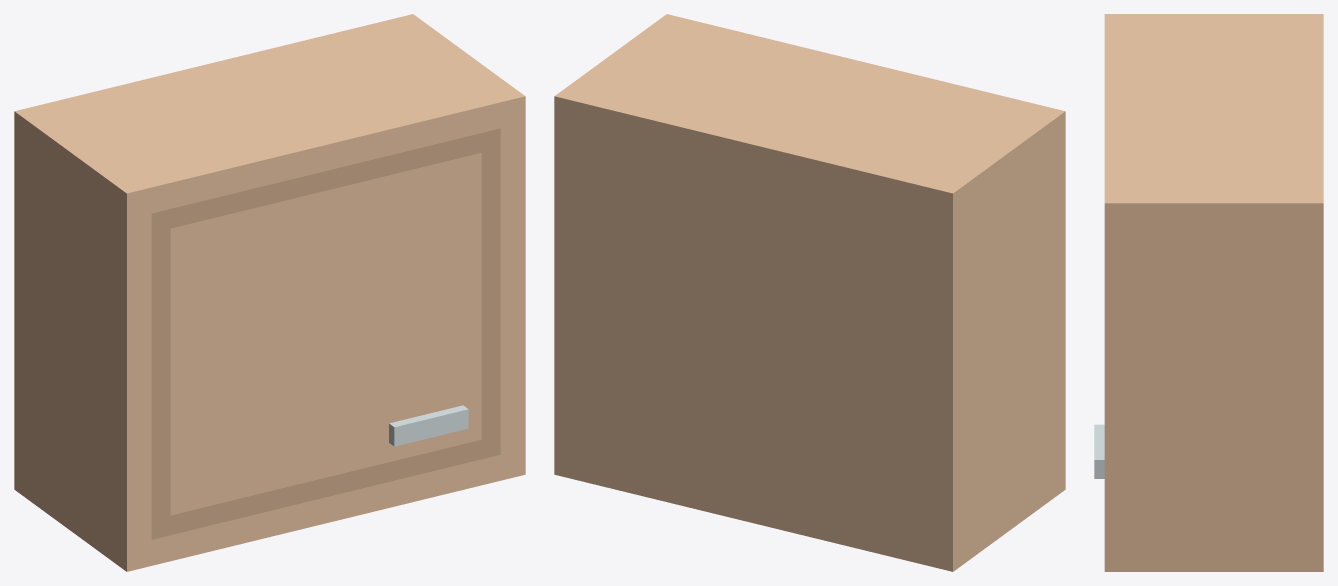
The model's file is kitchenCabinetUpper.gltf.
3 renders of one model, left to right at view 1: azimuth 30°, elevation 25°; view 2: azimuth 150°, elevation 25°; view 3: azimuth 270°, elevation 25°, orthographic. The views are drawn at different scales.
Visible parts, largest first — view 1: kitchenCabinetUpper(Clone), door; view 2: kitchenCabinetUpper(Clone); view 3: kitchenCabinetUpper(Clone), door.
Part boxes in pixels (x1=…): kitchenCabinetUpper(Clone): x1=14, y1=14, x2=525, y2=571; door: x1=151, y1=128, x2=500, y2=539; kitchenCabinetUpper(Clone): x1=554, y1=14, x2=1065, y2=571; kitchenCabinetUpper(Clone): x1=1104, y1=14, x2=1323, y2=571; door: x1=1094, y1=424, x2=1104, y2=478.
Size of the model in its own units: 0.43 by 0.39 by 0.22.
